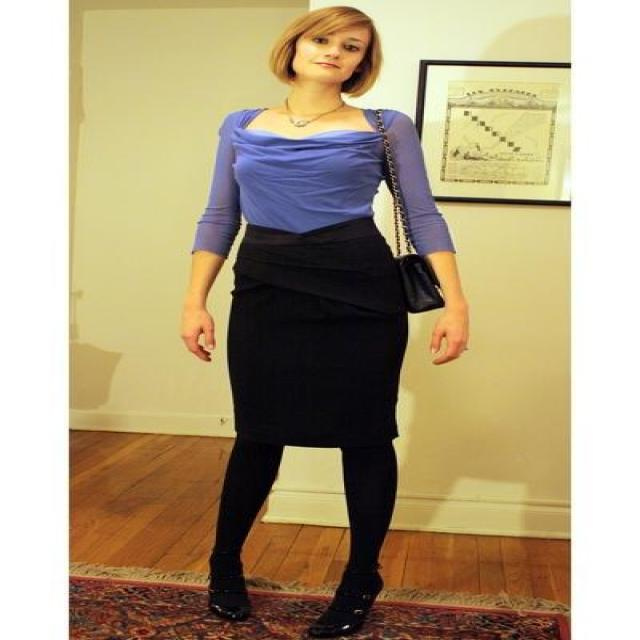bag: (384, 250, 443, 312)
shirt: (192, 109, 454, 258)
shoe: (203, 576, 376, 639)
skirt: (211, 214, 418, 447)
